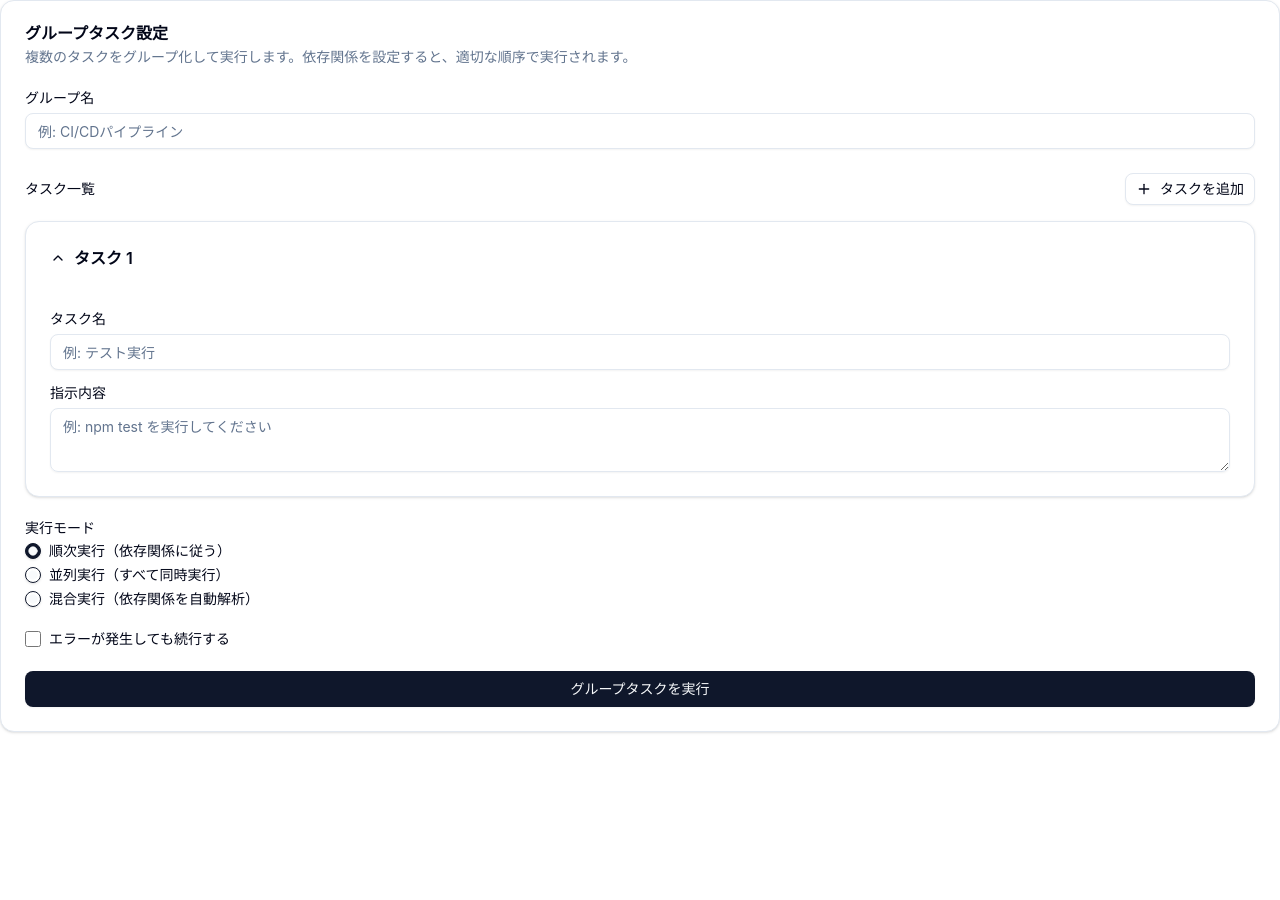
Test: GroupTaskForm › should add new task when clicking add button
The image size is (1280, 900).
Click the button "タスクを追加" at (1190, 189), box top-left (1125, 173), bottom-right (1255, 205)
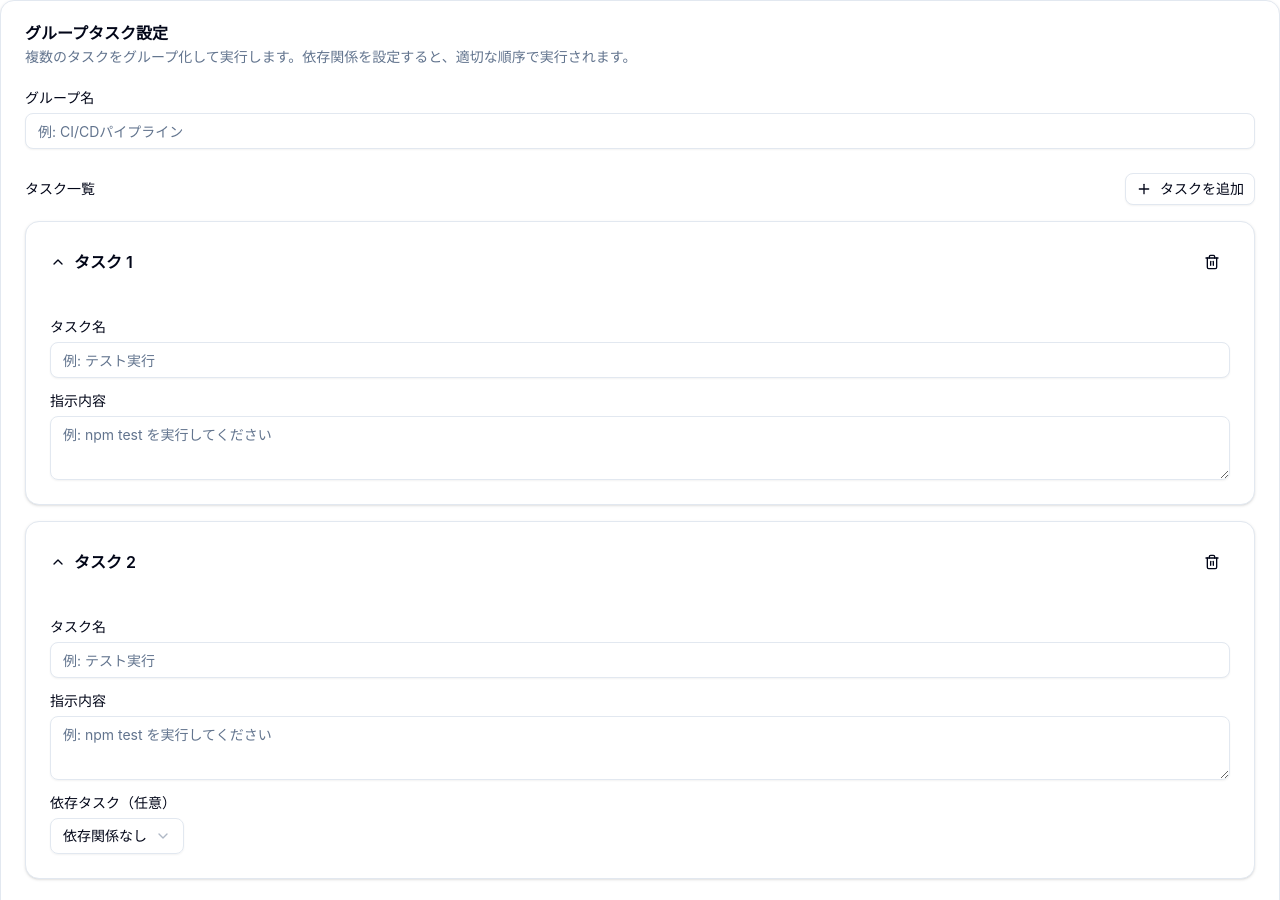
Expected: the text "タスク 2" is shown, top-left (74, 550), bottom-right (136, 574)
Expected: the number of elements with test id "task-card" is 2, top-left (25, 221), bottom-right (1255, 505); top-left (25, 521), bottom-right (1255, 879)
